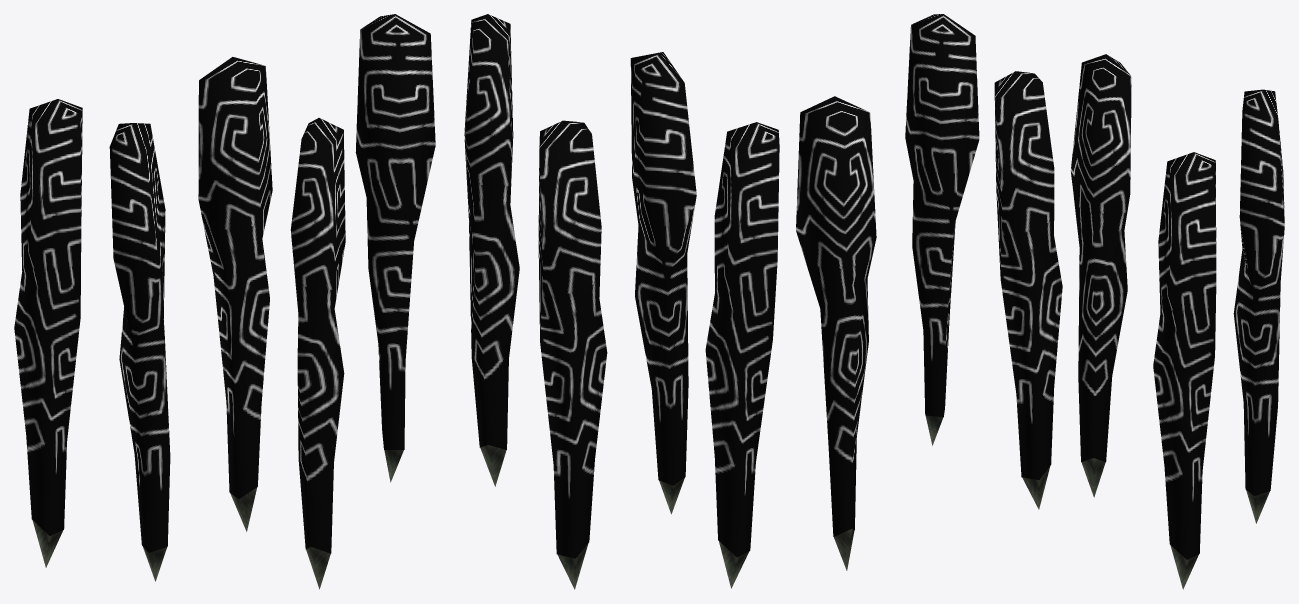
Rendered from door-stop.dae.
3 renders of one model, left to right at view 1: azimuth 30°, elevation 25°; view 2: azimuth 150°, elevation 25°; view 3: azimuth 330°, elevation 25°, orthographic. The views are drawn at different scales.
Parts seen in each view (by area): view 1: Shape 1, Shape 0; view 2: Shape 1, Shape 0; view 3: Shape 1, Shape 0.
Boxes of the visible parts, left/top/right/bottom form: Shape 1: left=14, top=14, right=435, bottom=553; Shape 0: left=32, top=450, right=403, bottom=589; Shape 1: left=464, top=14, right=876, bottom=558; Shape 0: left=480, top=445, right=854, bottom=589; Shape 1: left=905, top=14, right=1284, bottom=559; Shape 0: left=925, top=415, right=1269, bottom=589.
Bounding box in the file's own units: 296 × 384 × 58.92.
Materials: 2 (2 with a texture image).
